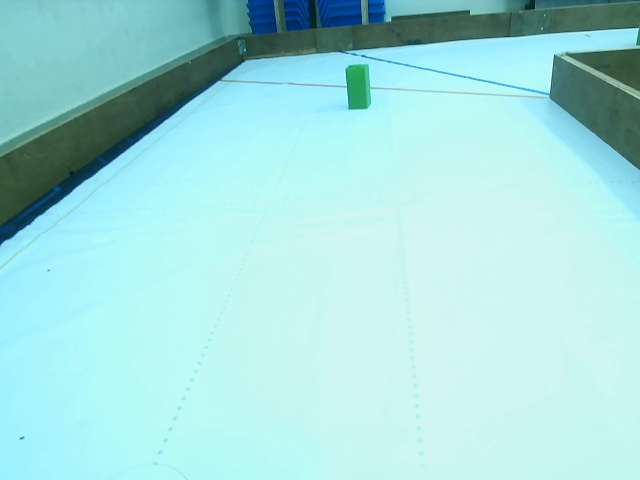green: (345, 63, 370, 108)
